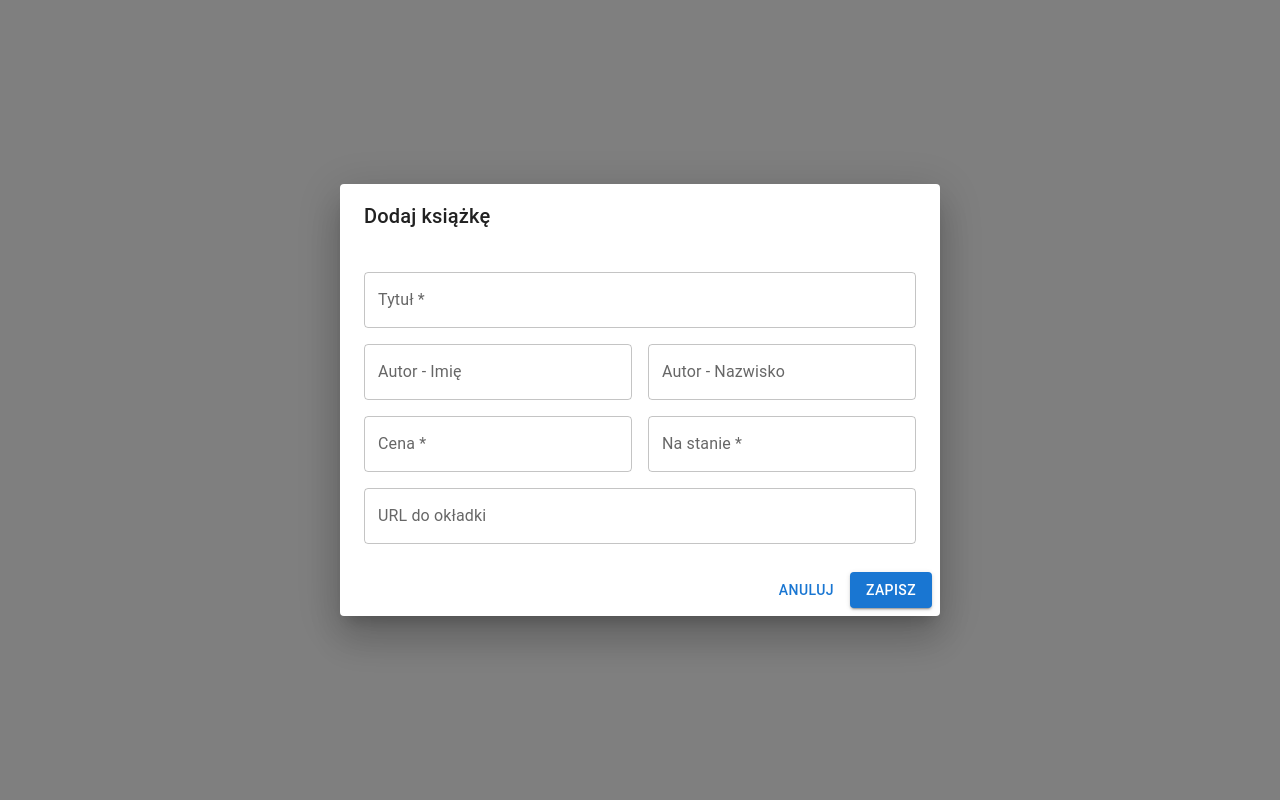
AdminAddBookForm › waliduje wymagane pola i pokazuje błąd
Click the button "Zapisz". click: {"x": 891, "y": 590}
box: [850,572,932,608]
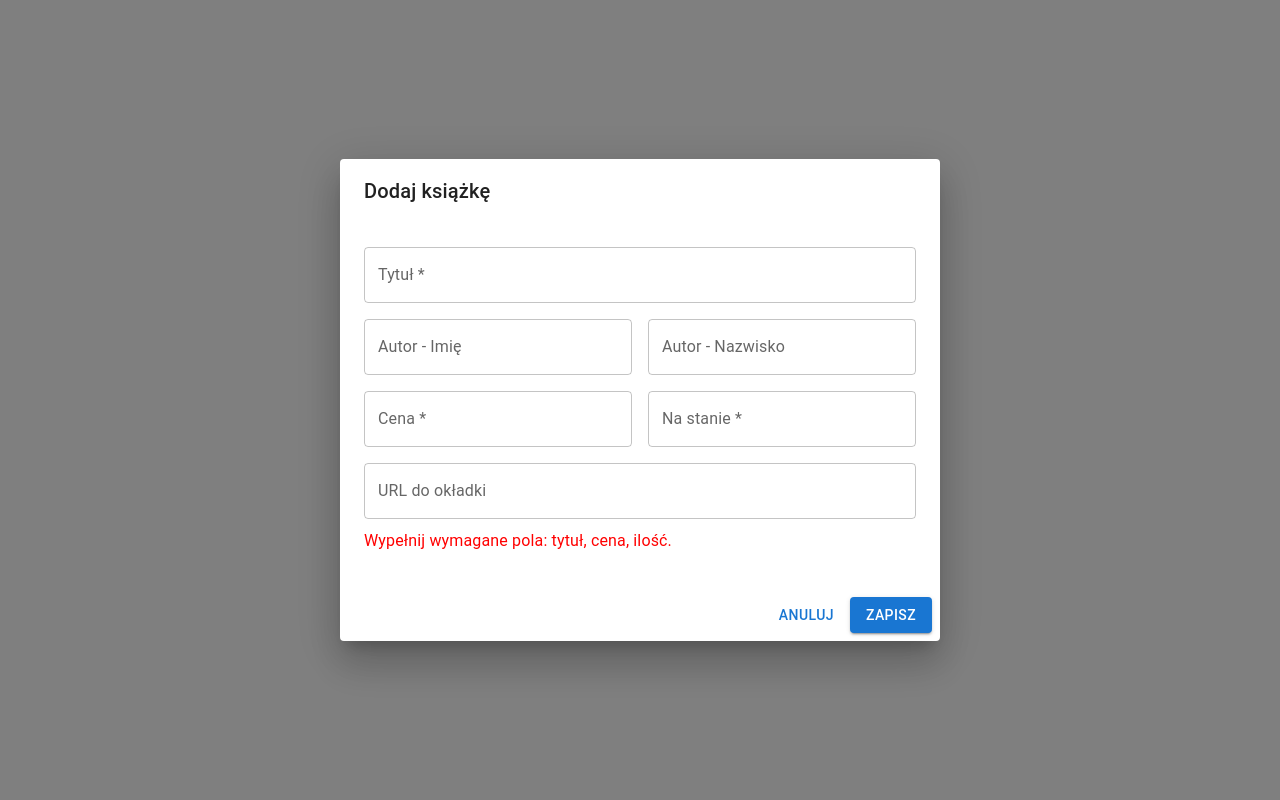
Now the text "Wypełnij wymagane pola: tytuł, cena, ilość." is shown, box [364,531,672,550]
